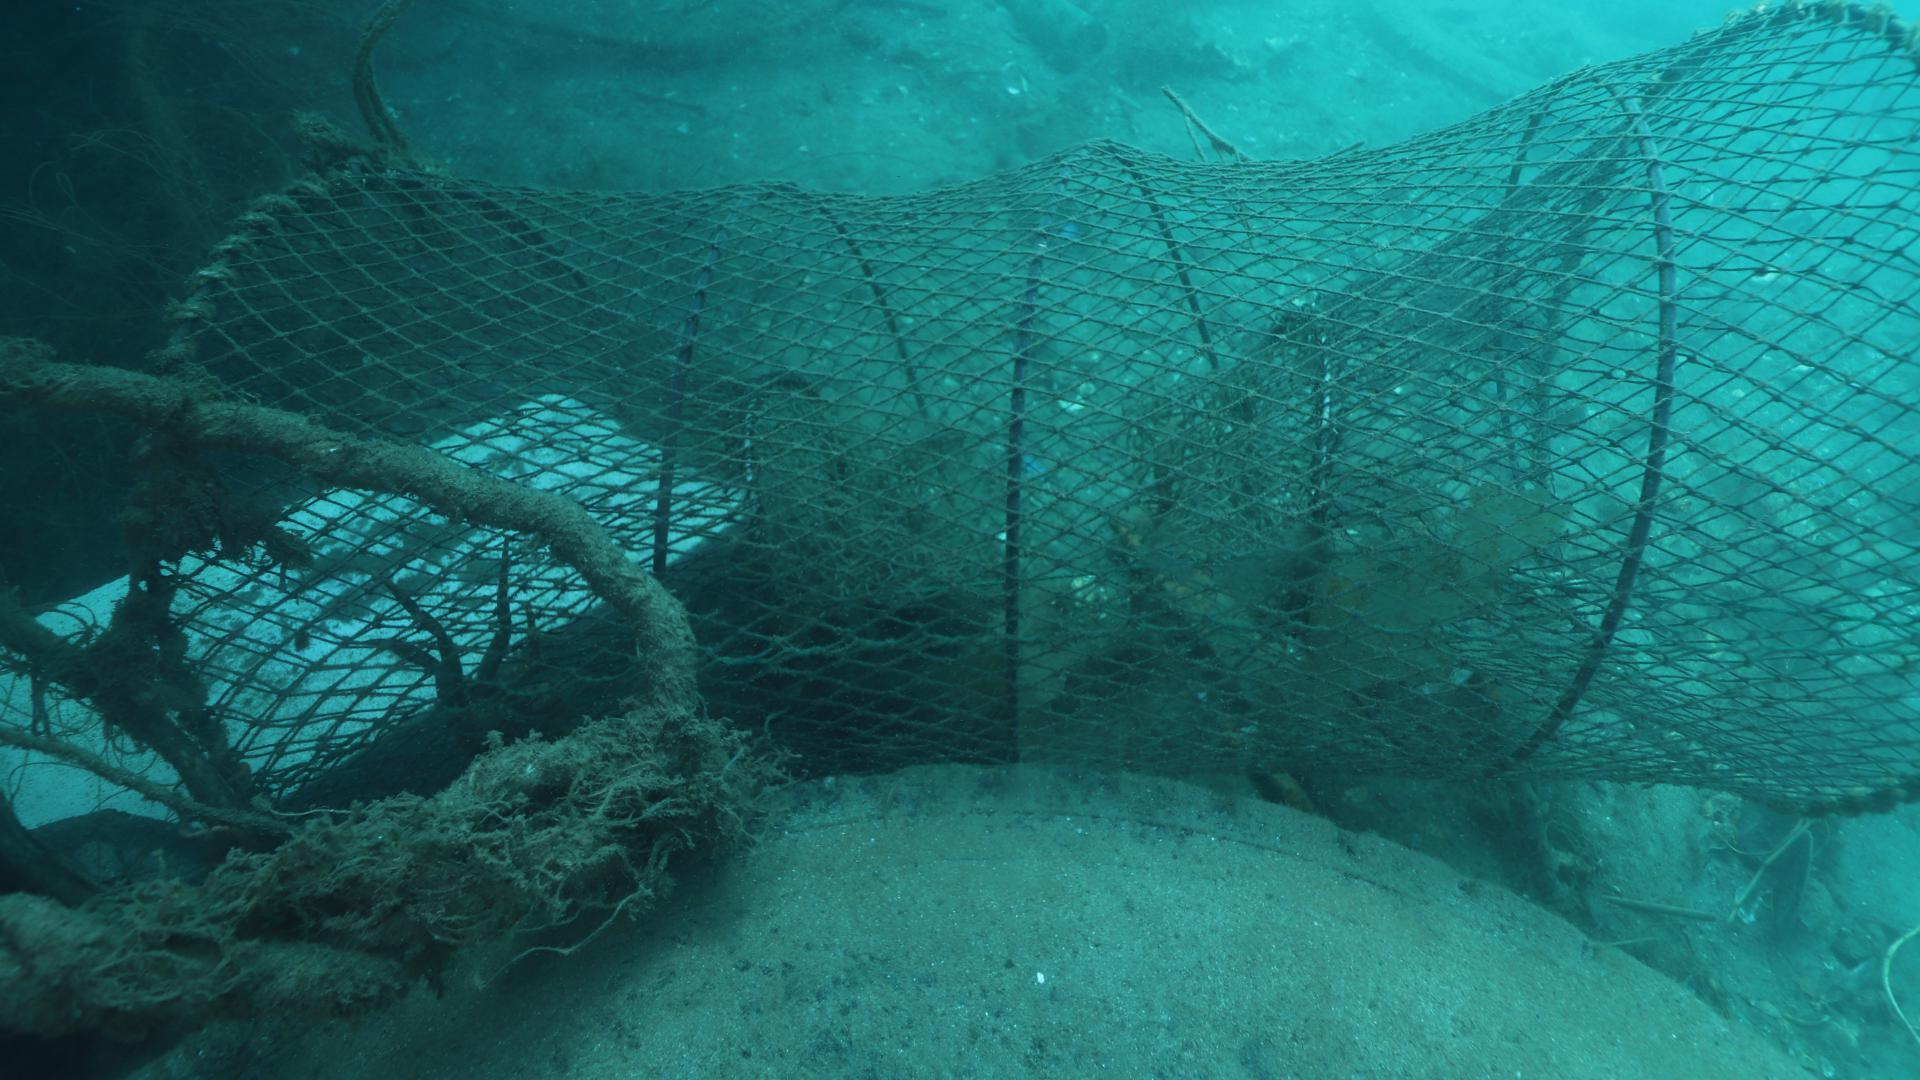bundle of ropes: (345, 0, 411, 154)
spring fish trap: (117, 0, 1920, 823)
